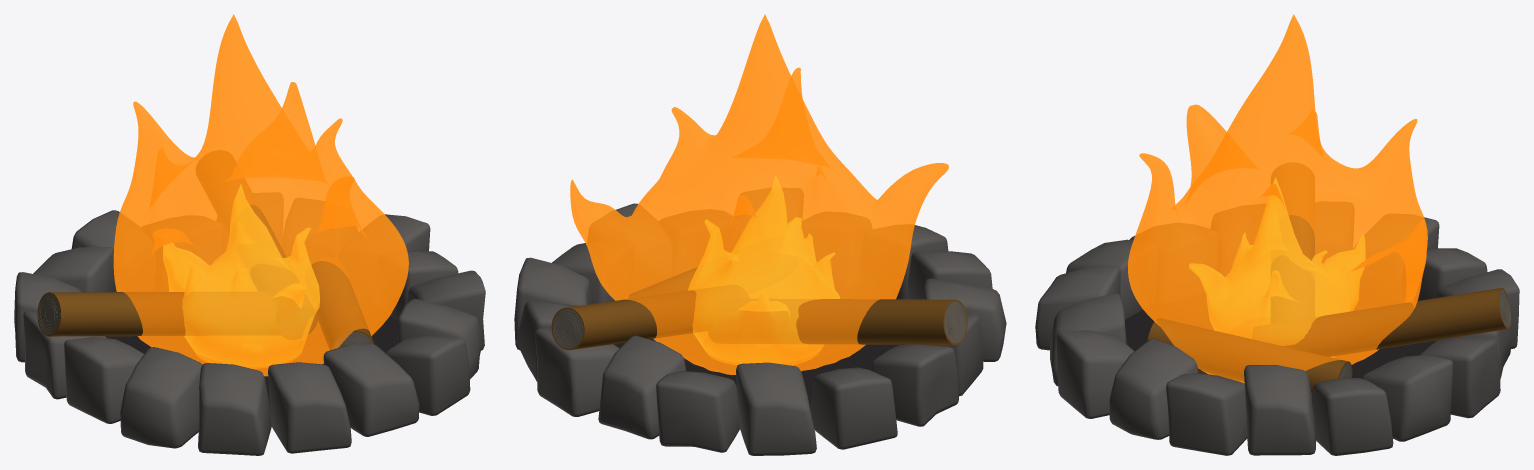
File: campfire.glb
3 views of the same model, side by side, from view 1: azimuth 30°, elevation 25°; view 2: azimuth 150°, elevation 25°; view 3: azimuth 270°, elevation 25° (orthographic). The views are drawn at different scales.
Visible parts, largest first — view 1: Fire outside, Hearth, Fire center, Wood_2, Wood_3, Main; view 2: Fire outside, Hearth, Fire center, Wood_2, Wood_1, Main, Wood_3; view 3: Fire outside, Hearth, Fire center, Wood_1, Wood_3, Main, Wood_2.
Part boxes in pixels (x1,y1,x2,y2): Fire outside: (113, 14, 408, 376); Hearth: (14, 210, 485, 455); Fire center: (163, 185, 319, 367); Wood_2: (37, 292, 185, 336); Wood_3: (311, 261, 374, 349); Main: (105, 315, 398, 410); Fire outside: (570, 14, 948, 374); Hearth: (514, 203, 1006, 455); Fire center: (688, 176, 839, 363); Wood_2: (796, 299, 967, 344); Wood_1: (551, 290, 696, 350); Main: (614, 338, 900, 409); Wood_3: (614, 267, 697, 343); Fire outside: (1128, 14, 1427, 383); Hearth: (1035, 217, 1519, 455); Fire center: (1189, 177, 1365, 357); Wood_1: (1283, 288, 1511, 356); Wood_3: (1147, 318, 1352, 393); Main: (1125, 309, 1431, 378); Wood_2: (1289, 215, 1314, 260).
Size of the model in its own units: 2.26 by 1.83 by 2.33.
